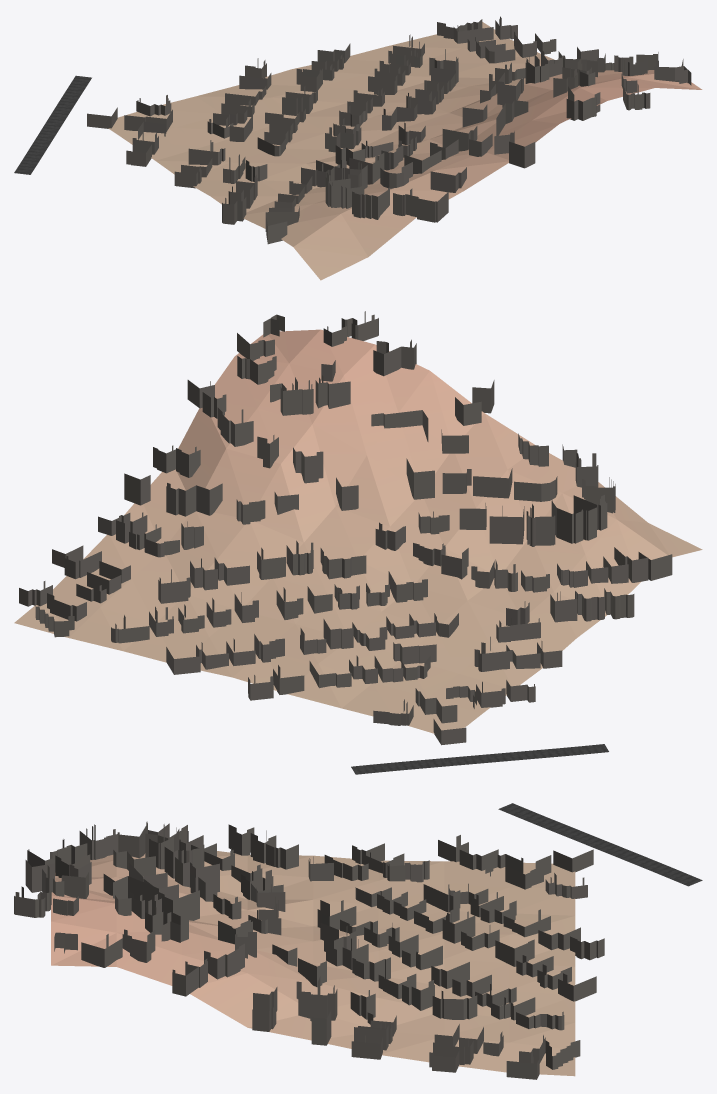
File: tile_18_-16_lod1.gltf
3 views of the same model, one above another, from view 1: azimuth 30°, elevation 25°; view 2: azimuth 150°, elevation 25°; view 3: azimuth 270°, elevation 25° (orthographic). The views are drawn at different scales.
Parts seen in each view (by area): view 1: Buildings_col, Terrain_col, Roads; view 2: Terrain_col, Buildings_col, Roads; view 3: Buildings_col, Terrain_col, Roads.
Boxes of the visible parts, bbox=[...] form: Buildings_col: bbox=[87, 16, 691, 244]; Terrain_col: bbox=[108, 22, 702, 280]; Roads: bbox=[14, 75, 91, 174]; Terrain_col: bbox=[14, 329, 702, 733]; Buildings_col: bbox=[19, 311, 672, 745]; Roads: bbox=[351, 744, 608, 774]; Buildings_col: bbox=[14, 821, 604, 1079]; Terrain_col: bbox=[51, 851, 575, 1076]; Roads: bbox=[498, 803, 702, 886].
Size of the model in its own units: 343 by 83.11 by 337.
3 materials, 1 textured.
